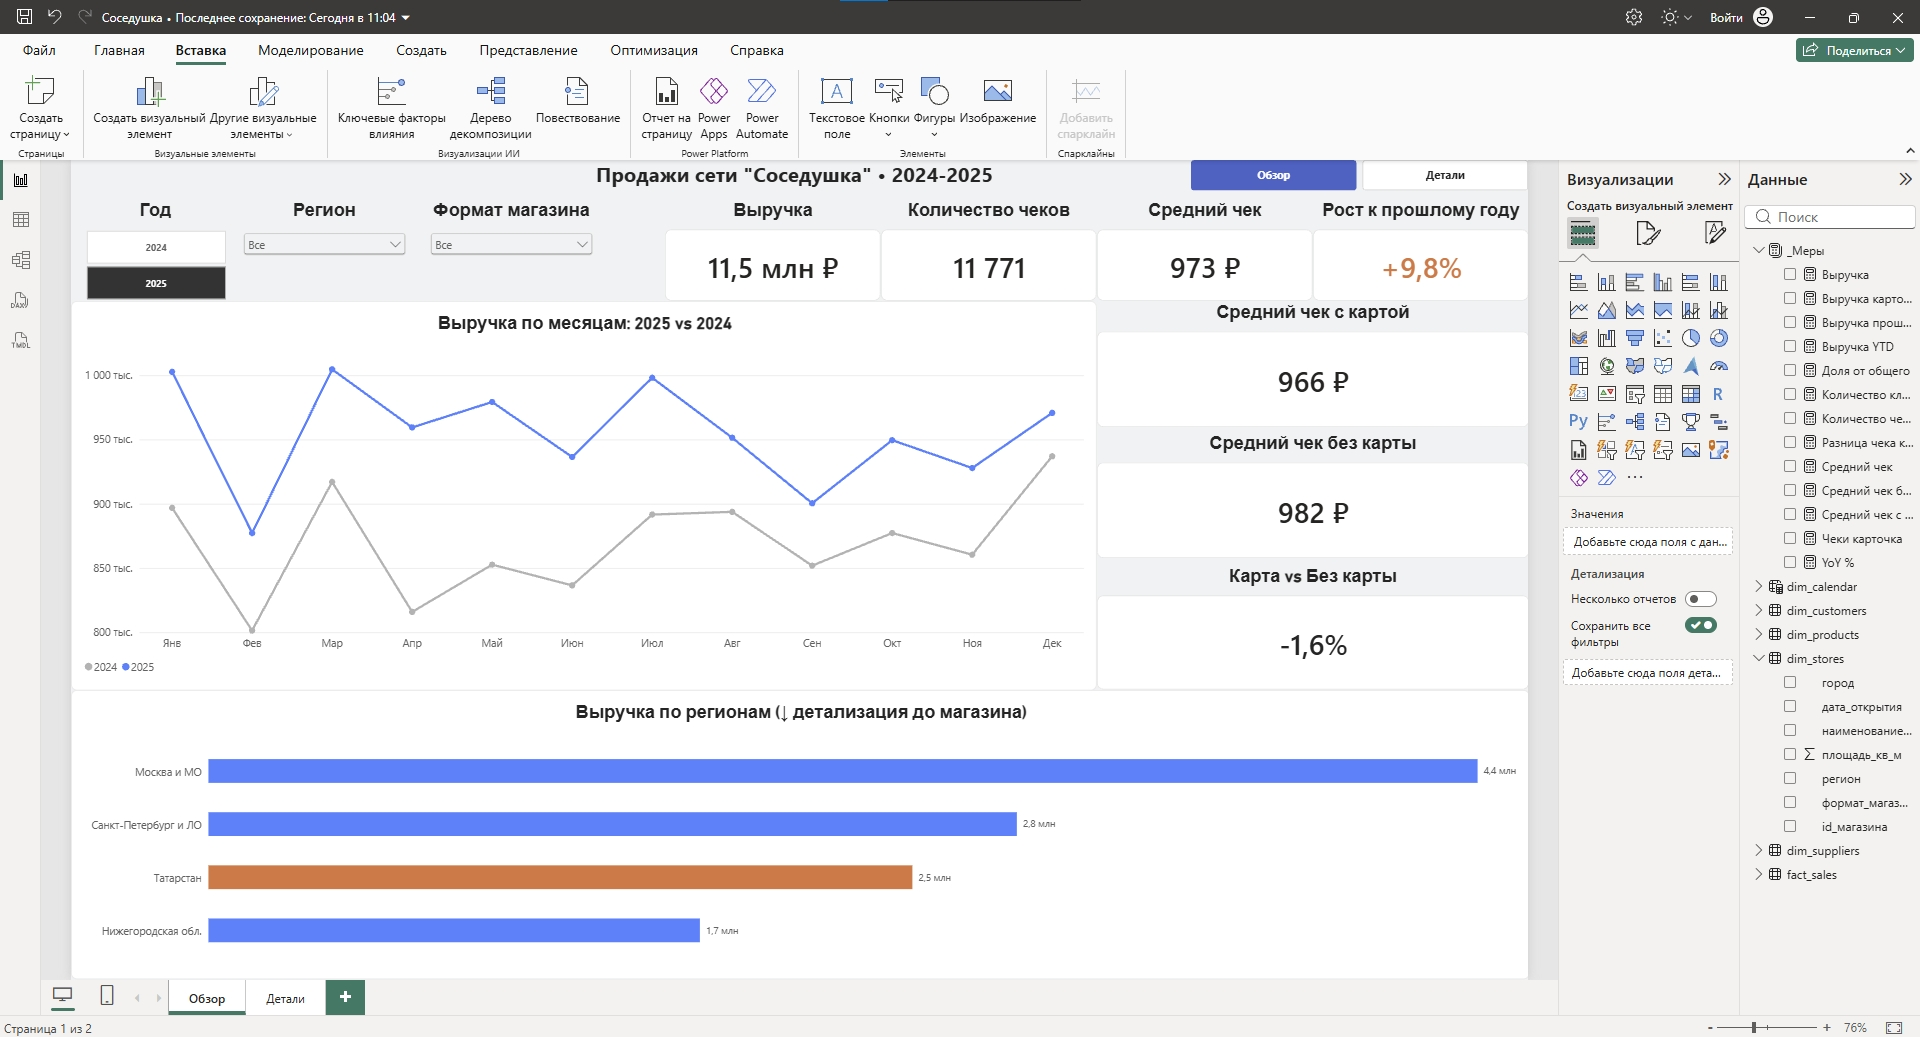

What the dashboard file says about the page in this screenshot:
{"tool":"powerbi","page":{"name":"Обзор","canvas":[1920,1080],"ordinal":0},"visuals":[{"type":"slicer","title":"Год","fields":{"Values":["dim_calendar.Год"]},"box":[0,51.4,222.6,134.3],"z":0},{"type":"cardVisual","title":"Выручка","fields":{"Data":["_Меры.Выручка карточка"]},"box":[782.3,51.4,284.5,134.3],"z":1000},{"type":"cardVisual","title":"Количество чеков","fields":{"Data":["_Меры.Чеки карточка"]},"box":[1066.8,51.4,284.5,134.3],"z":2000},{"type":"cardVisual","title":"Средний чек","fields":{"Data":["_Меры.Средний чек"]},"box":[1351.3,51.4,284.5,134.3],"z":3000},{"type":"cardVisual","title":"Рост к прошлому году","fields":{"Data":["_Меры.YoY %"]},"box":[1635.8,51.4,284.5,134.3],"z":4000},{"type":"lineChart","title":"Выручка по месяцам: 2025 vs 2024","fields":{"Category":["dim_calendar.Месяц"],"Series":["dim_calendar.Год"],"Y":["_Меры.Выручка"]},"box":[0,185.7,1351.5,513.2],"z":5000},{"type":"cardVisual","title":"Средний чек с картой","fields":{"Data":["_Меры.Средний чек с картой"]},"box":[1351.5,185.3,569.1,166.2],"z":6000},{"type":"cardVisual","title":"Средний чек без карты","fields":{"Data":["_Меры.Средний чек без карты"]},"box":[1351.5,358.8,569.1,166.2],"z":7000},{"type":"clusteredBarChart","title":"Выручка по регионам (↓ детализация до магазина)","fields":{"Category":["dim_stores.регион","dim_stores.наименование_магазина"],"Y":["_Меры.Выручка"]},"box":[0,698.5,1920.6,380.9],"z":8000},{"type":"textbox","box":[691.2,0,538.2,51.5],"z":9000},{"type":"cardVisual","title":"Карта vs Без карты","fields":{"Data":["_Меры.Разница чека карта vs без"]},"box":[1351.3,533.4,569.1,164.7],"z":10000},{"type":"slicer","title":"Регион","fields":{"Values":["dim_stores.регион"]},"box":[222.6,51.4,222.6,134.3],"z":11000},{"type":"slicer","title":"Формат магазина","fields":{"Values":["dim_stores.формат_магазина"]},"box":[468.9,51.4,222.6,134.3],"z":12000},{"type":"pageNavigator","box":[1475.1,0,445.2,40.8],"z":13000}]}

Visuals, with their boxes on the page's 1920x1080 design canvas (x1, y1, x2, y2). These are canvas units, not pixel positions in the 1920x1037 screenshot, which may show the page scaled, cropped or inside an application window:
"Год" slicer: <bbox>0, 51, 223, 186</bbox>
"Выручка" cardVisual: <bbox>782, 51, 1067, 186</bbox>
"Количество чеков" cardVisual: <bbox>1067, 51, 1351, 186</bbox>
"Средний чек" cardVisual: <bbox>1351, 51, 1636, 186</bbox>
"Рост к прошлому году" cardVisual: <bbox>1636, 51, 1920, 186</bbox>
"Выручка по месяцам: 2025 vs 2024" lineChart: <bbox>0, 186, 1352, 699</bbox>
"Средний чек с картой" cardVisual: <bbox>1352, 185, 1921, 352</bbox>
"Средний чек без карты" cardVisual: <bbox>1352, 359, 1921, 525</bbox>
"Выручка по регионам (↓ детализация до магазина)" clusteredBarChart: <bbox>0, 698, 1921, 1079</bbox>
textbox: <bbox>691, 0, 1229, 52</bbox>
"Карта vs Без карты" cardVisual: <bbox>1351, 533, 1920, 698</bbox>
"Регион" slicer: <bbox>223, 51, 445, 186</bbox>
"Формат магазина" slicer: <bbox>469, 51, 692, 186</bbox>
pageNavigator: <bbox>1475, 0, 1920, 41</bbox>
